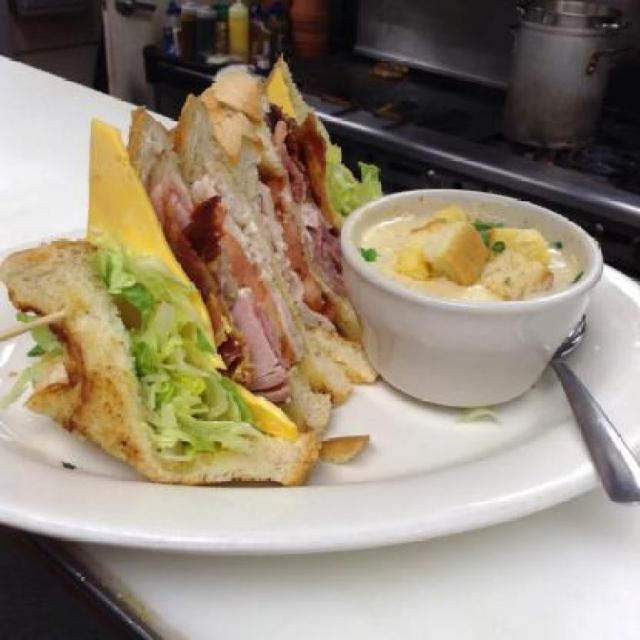clam chowder: (339, 171, 606, 426)
club sandwich: (16, 48, 367, 500)
